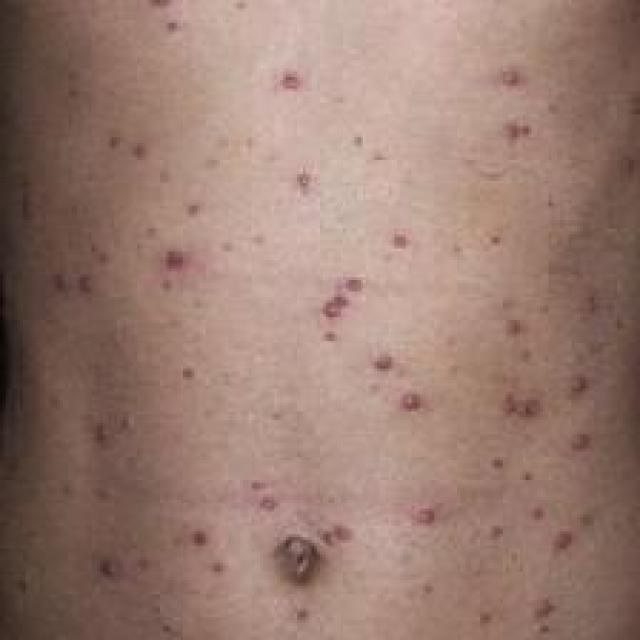others: (8, 0, 640, 611)
